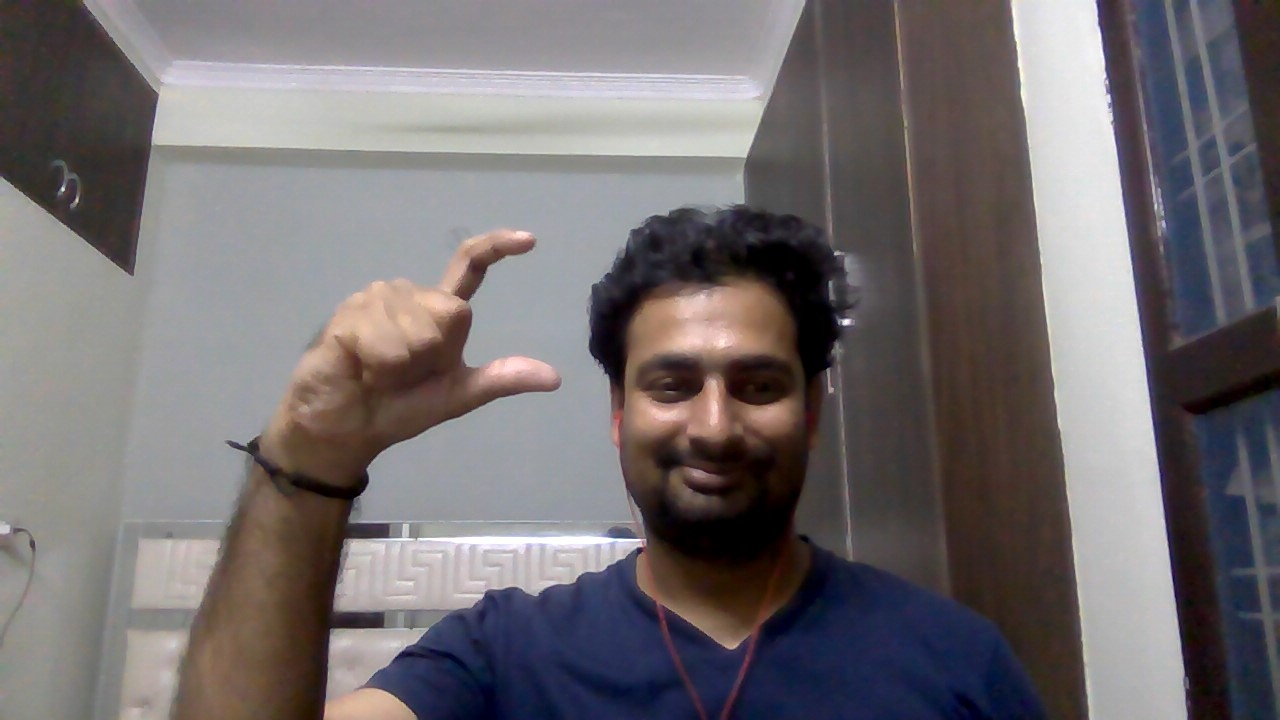Paste: (262, 219, 570, 478)
